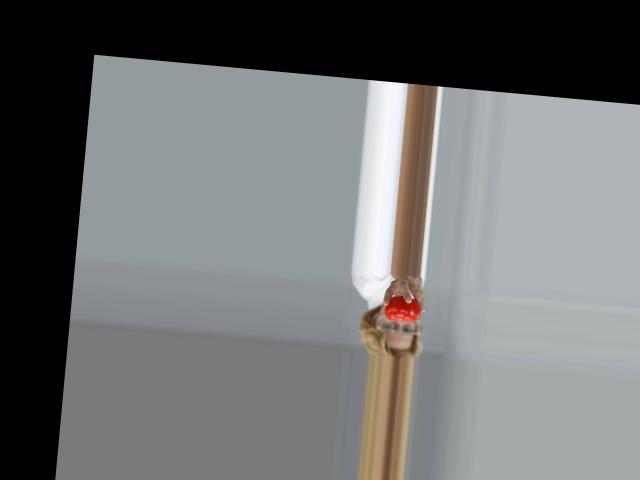tomato: (382, 294, 421, 322)
